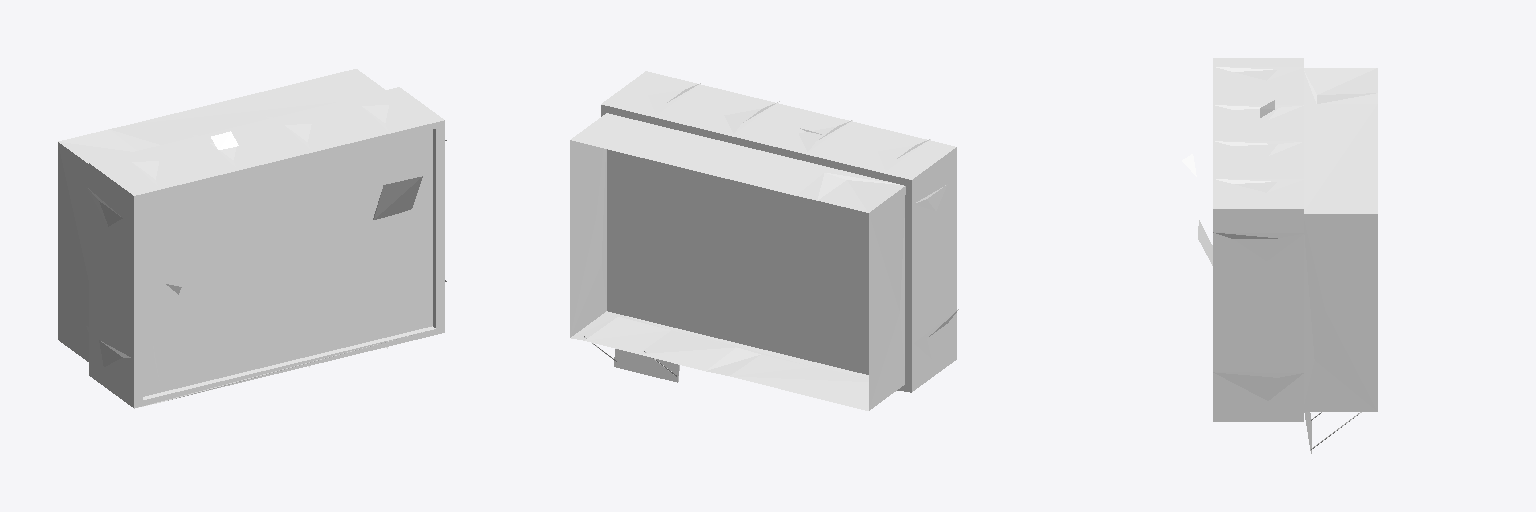
The model's file is building3LOD.obj.
3 views of the same model, side by side, from view 1: azimuth 30°, elevation 25°; view 2: azimuth 150°, elevation 25°; view 3: azimuth 270°, elevation 25° (orthographic).
Visible parts, largest first — view 1: building3.001_LOD1; view 2: building3.001_LOD1; view 3: building3.001_LOD1.
Boxes of the visible parts, <box> form: building3.001_LOD1: <box>58,69,446,408</box>; building3.001_LOD1: <box>570,71,958,410</box>; building3.001_LOD1: <box>1182,58,1377,453</box>.
Bounding box in the file's own units: 12.81 × 10.32 × 6.9.